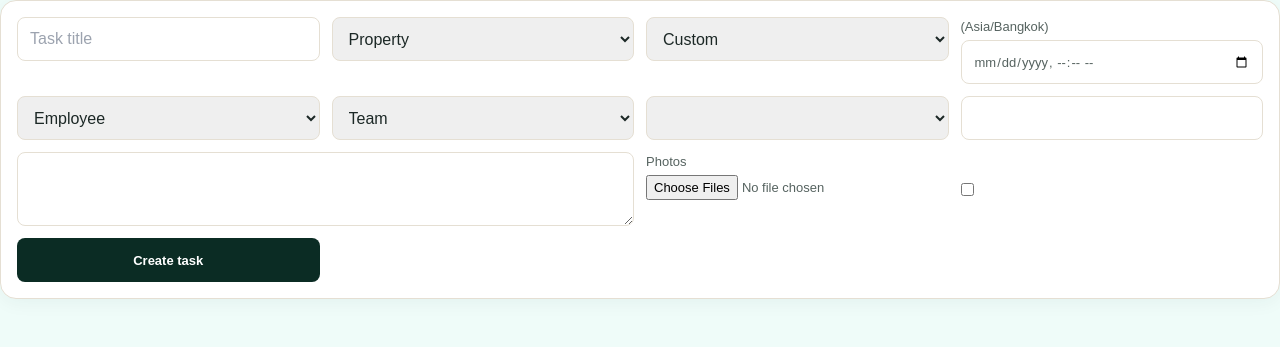
Test: operational task form submission › preserves a canonical refusal and the entered task without refresh
Type "Shift task" into the field named "title" at (168, 39), box [17,17,320,61]
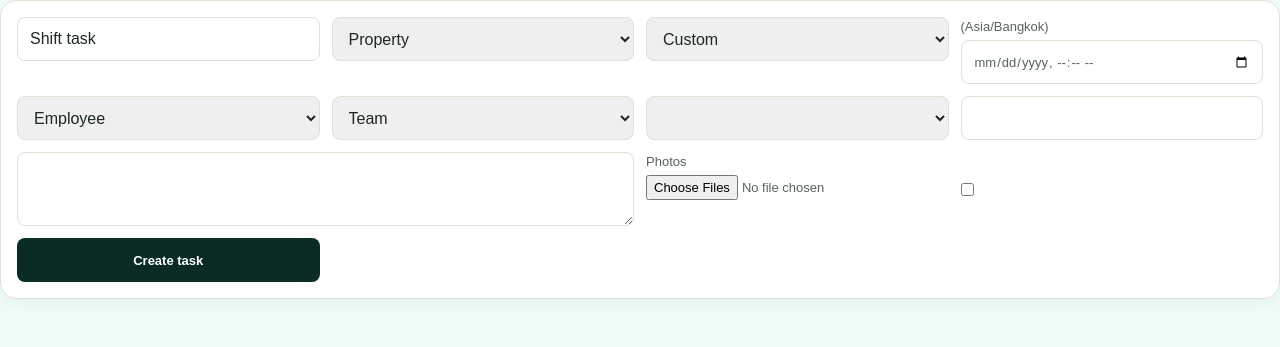
Select "Estate · Villa" in the 1st dropdown named "unitId" at (483, 39), box [332,17,634,61]
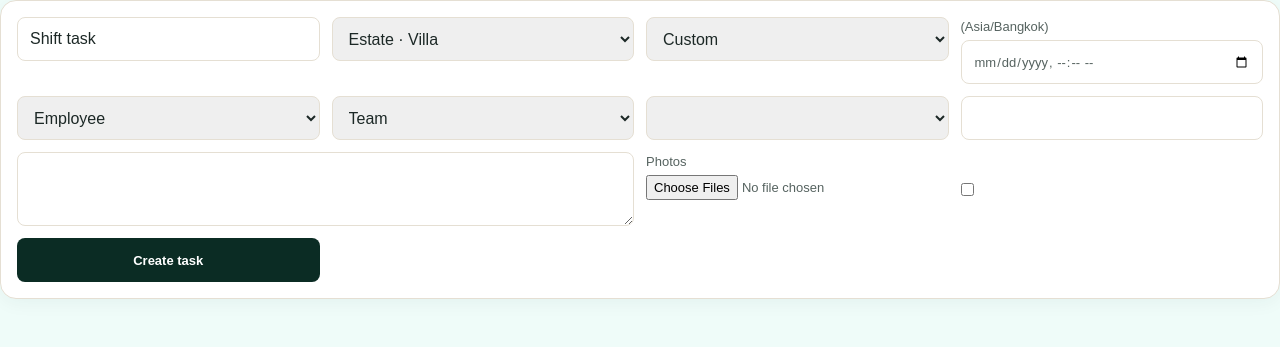
Select "Test Staff" in the 3rd dropdown named "assignedIdentityId" at (168, 118), box [17,96,320,140]
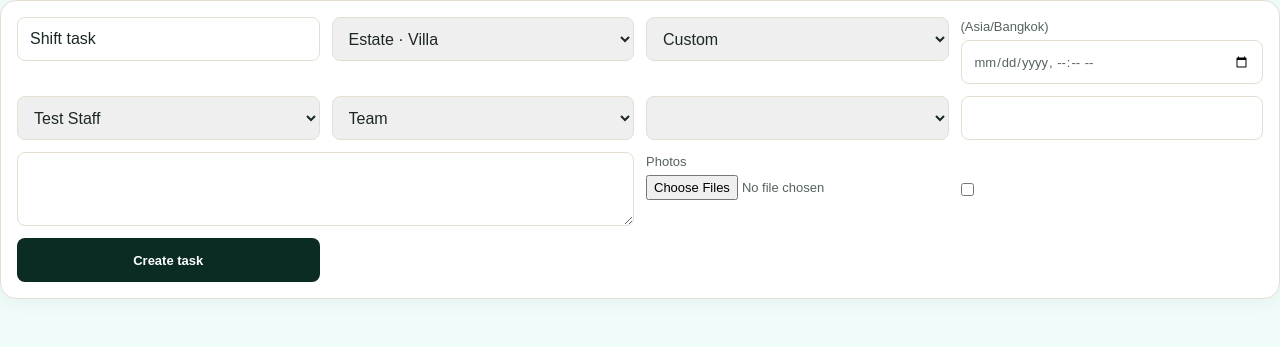
Type "2027-01-10T10:00" into the field named "dueAt" at (1112, 62), box [960,40,1263,84]
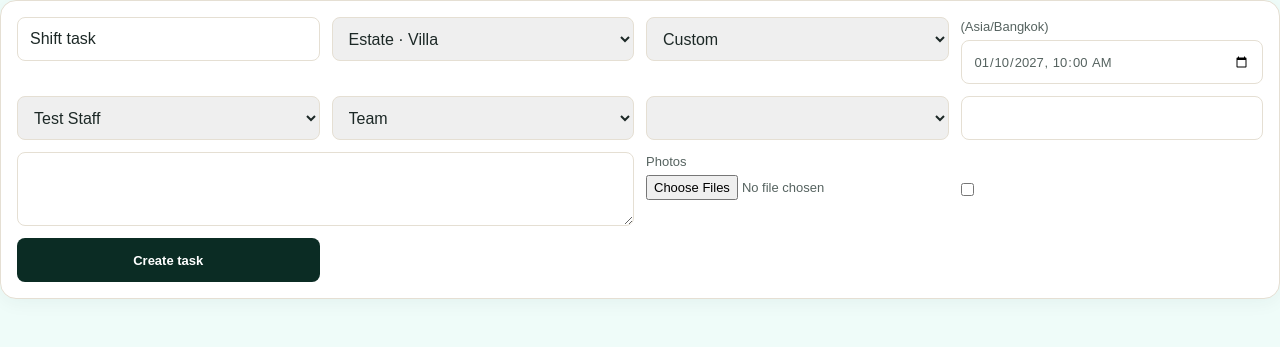
Submit the form
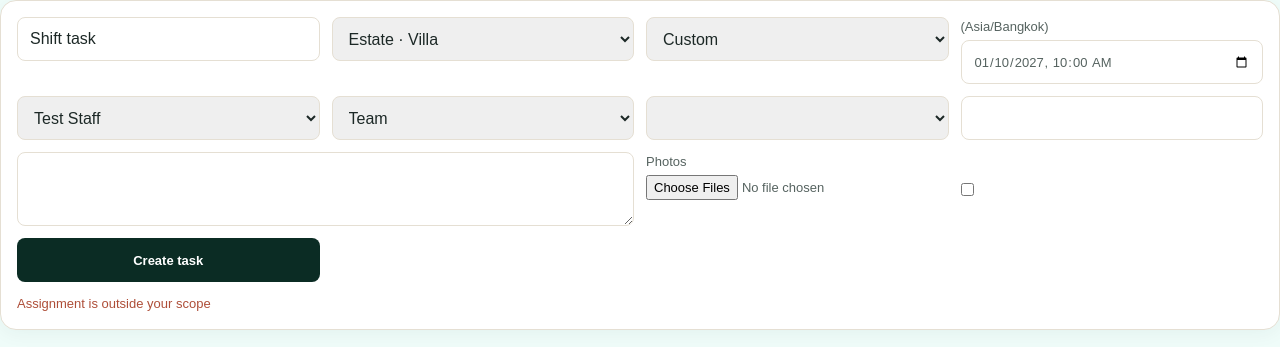
Check: the button "Create task" is enabled, box [17,238,320,282]
Check: the message reads "Assignment is outside your scope", box [17,296,211,311]
